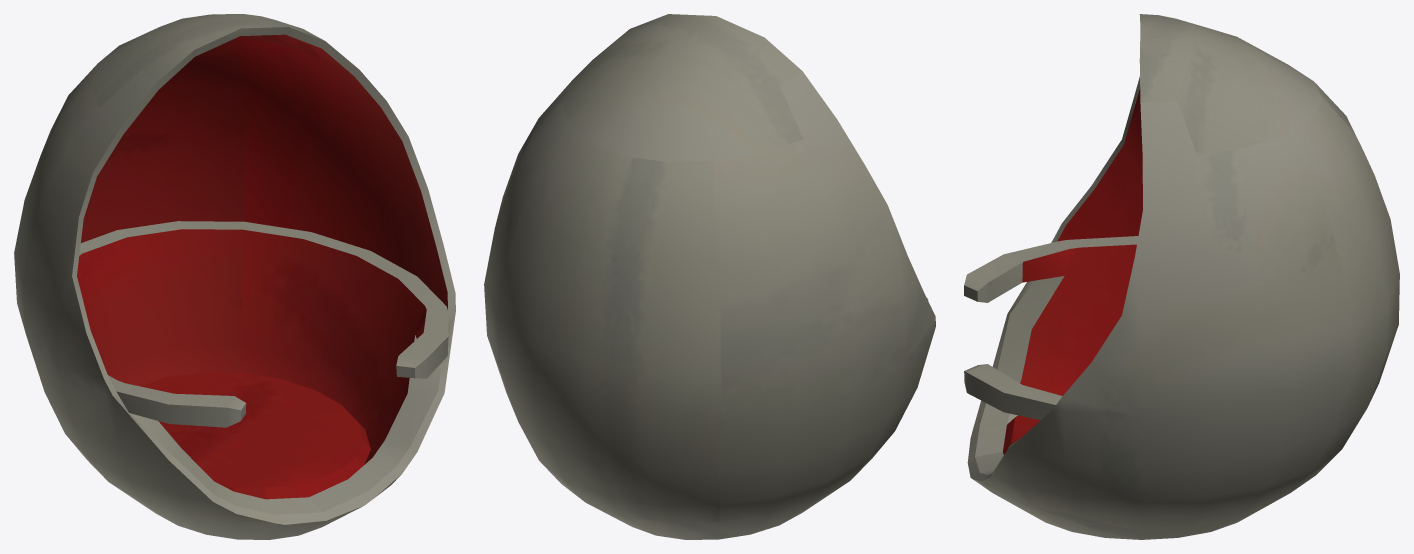
File: Isu.fbx
3 views of the same model, side by side, from view 1: azimuth 30°, elevation 25°; view 2: azimuth 150°, elevation 25°; view 3: azimuth 270°, elevation 25° (orthographic). The views are drawn at different scales.
Parts seen in each view (by area): view 1: polySurface3; view 2: polySurface3; view 3: polySurface3.
Boxes of the visible parts, box(x1,y1,x2,y2) form: polySurface3: box(14, 14, 455, 539); polySurface3: box(484, 14, 935, 539); polySurface3: box(964, 14, 1399, 539).
Bounding box in the file's own units: 26.47 × 33.29 × 26.48.
Materials: 1 (1 with a texture image).
